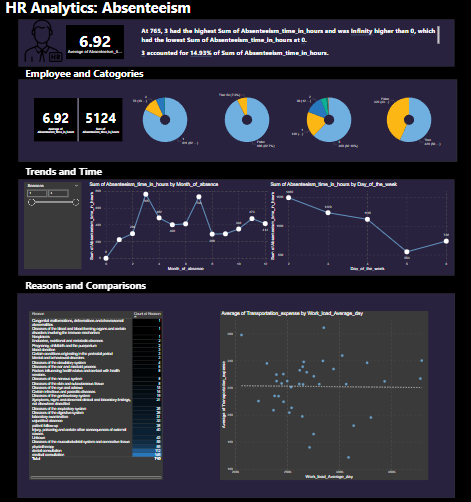

This screenshot's page, from the dashboard's own definition file:
{"tool":"powerbi","page":{"name":"Page 1","canvas":[1880,1920],"ordinal":0},"visuals":[{"type":"shape","box":[110.3,81.2,1665.6,195.7],"z":0},{"type":"shape","box":[104.1,1113.8,1671.8,791.1],"z":1000},{"type":"shape","box":[110.3,682.9,1665.6,381],"z":2000},{"type":"shape","box":[110.3,306,1676,328.9],"z":3000},{"type":"card","fields":{"Values":["Avg(Query1.Absenteeism_time_in_hours)"]},"box":[299.8,108.3,218.6,129.1],"z":4000},{"type":"donutChart","fields":{"Y":["CountNonNull(Query1.Education)"],"Category":["Query1.Education"]},"box":[518.4,345.6,310.2,247.8],"z":5000},{"type":"lineChart","fields":{"Category":["Query1.Month_of_absence"],"Y":["Sum(Query1.Absenteeism_time_in_hours)"]},"box":[381,703.7,685,339.4],"z":6000},{"type":"lineChart","fields":{"Category":["Query1.Day_of_the_week"],"Y":["Sum(Query1.Absenteeism_time_in_hours)"]},"box":[1066,703.7,685,339.4],"z":7000},{"type":"tableEx","fields":{"Values":["Query1.Reason","CountNonNull(Query1.Reason)"]},"box":[160.3,1188.8,505.9,639.2],"z":8000},{"type":"donutChart","fields":{"Category":["Query1.Social_smoker"],"Y":["CountNonNull(Query1.Social_smoker)"]},"box":[828.6,345.6,310.2,247.8],"z":9000},{"type":"donutChart","fields":{"Y":["CountNonNull(Query1.Pet)"],"Category":["Query1.Pet"]},"box":[1138.8,345.6,310.2,247.8],"z":10000},{"type":"donutChart","fields":{"Category":["Query1.Social_drinker"],"Y":["CountNonNull(Query1.Social_drinker)"]},"box":[1440.7,345.6,310.2,247.8],"z":11000},{"type":"scatterChart","fields":{"X":["Query1.Work_load_Average_day"],"Y":["Avg(Query1.Transportation_expense)"]},"box":[880.7,1188.8,787,639.2],"z":12000},{"type":"card","fields":{"Values":["Avg(Query1.Absenteeism_time_in_hours)"]},"box":[179,387.2,164.5,164.5],"z":13000},{"type":"card","fields":{"Values":["Sum(Query1.Absenteeism_time_in_hours)"]},"box":[347.7,387.2,164.5,164.5],"z":14000},{"type":"shape","box":[179,387.2,333.1,164.5],"z":15000},{"type":"slicer","fields":{"Values":["Query1.Seasons"]},"box":[141.6,703.7,216.5,328.9],"z":16000},{"type":"textbox","box":[64.5,0,1132.6,108.3],"z":17000},{"type":"textbox","box":[578.8,108.3,1136.7,135.3],"z":18000},{"type":"textbox","box":[141.6,260.2,643.3,81.2],"z":19000},{"type":"textbox","box":[141.6,630.8,493.4,89.5],"z":19001},{"type":"textbox","box":[141.6,1063.9,493.4,66.6],"z":19002},{"type":"image","box":[129.1,81.2,170.7,179],"z":19003}]}

Visuals, with their boxes on the page's 1880x1920 design canvas (x1, y1, x2, y2). These are canvas units, not pixel positions in the 471x502 screenshot, which may show the page scaled, cropped or inside an application window:
shape: <box>110,81,1776,277</box>
shape: <box>104,1114,1776,1905</box>
shape: <box>110,683,1776,1064</box>
shape: <box>110,306,1786,635</box>
card - Avg(Query1.Absenteeism_time_in_hours): <box>300,108,518,237</box>
donutChart - CountNonNull(Query1.Education) x Query1.Education: <box>518,346,829,593</box>
lineChart - Query1.Month_of_absence x Sum(Query1.Absenteeism_time_in_hours): <box>381,704,1066,1043</box>
lineChart - Query1.Day_of_the_week x Sum(Query1.Absenteeism_time_in_hours): <box>1066,704,1751,1043</box>
tableEx - Query1.Reason x CountNonNull(Query1.Reason): <box>160,1189,666,1828</box>
donutChart - Query1.Social_smoker x CountNonNull(Query1.Social_smoker): <box>829,346,1139,593</box>
donutChart - CountNonNull(Query1.Pet) x Query1.Pet: <box>1139,346,1449,593</box>
donutChart - Query1.Social_drinker x CountNonNull(Query1.Social_drinker): <box>1441,346,1751,593</box>
scatterChart - Query1.Work_load_Average_day x Avg(Query1.Transportation_expense): <box>881,1189,1668,1828</box>
card - Avg(Query1.Absenteeism_time_in_hours): <box>179,387,344,552</box>
card - Sum(Query1.Absenteeism_time_in_hours): <box>348,387,512,552</box>
shape: <box>179,387,512,552</box>
slicer - Query1.Seasons: <box>142,704,358,1033</box>
textbox: <box>64,0,1197,108</box>
textbox: <box>579,108,1716,244</box>
textbox: <box>142,260,785,341</box>
textbox: <box>142,631,635,720</box>
textbox: <box>142,1064,635,1130</box>
image: <box>129,81,300,260</box>
